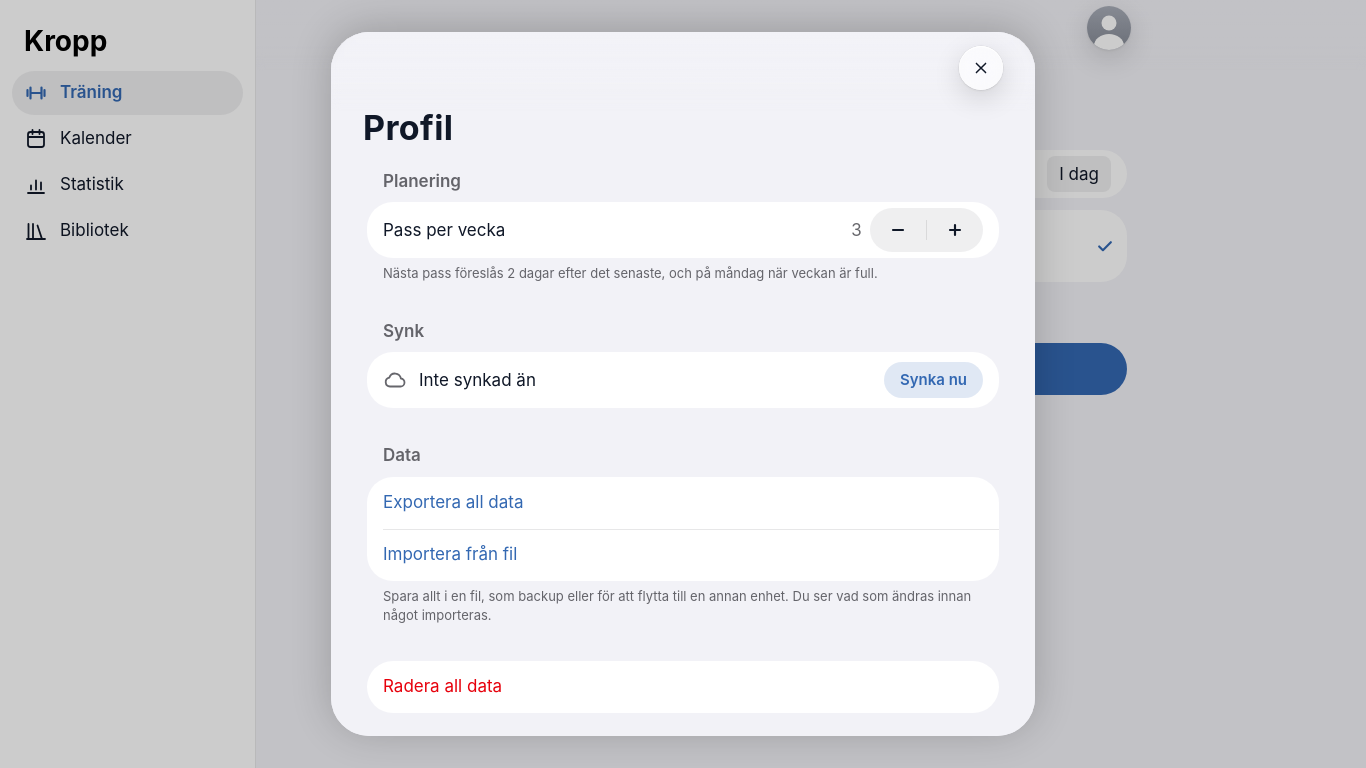
Test: export and import › downloads the file where there is no share sheet
Click the button with test id "export-data".
click(453, 502)  # box [367,477,999,529]
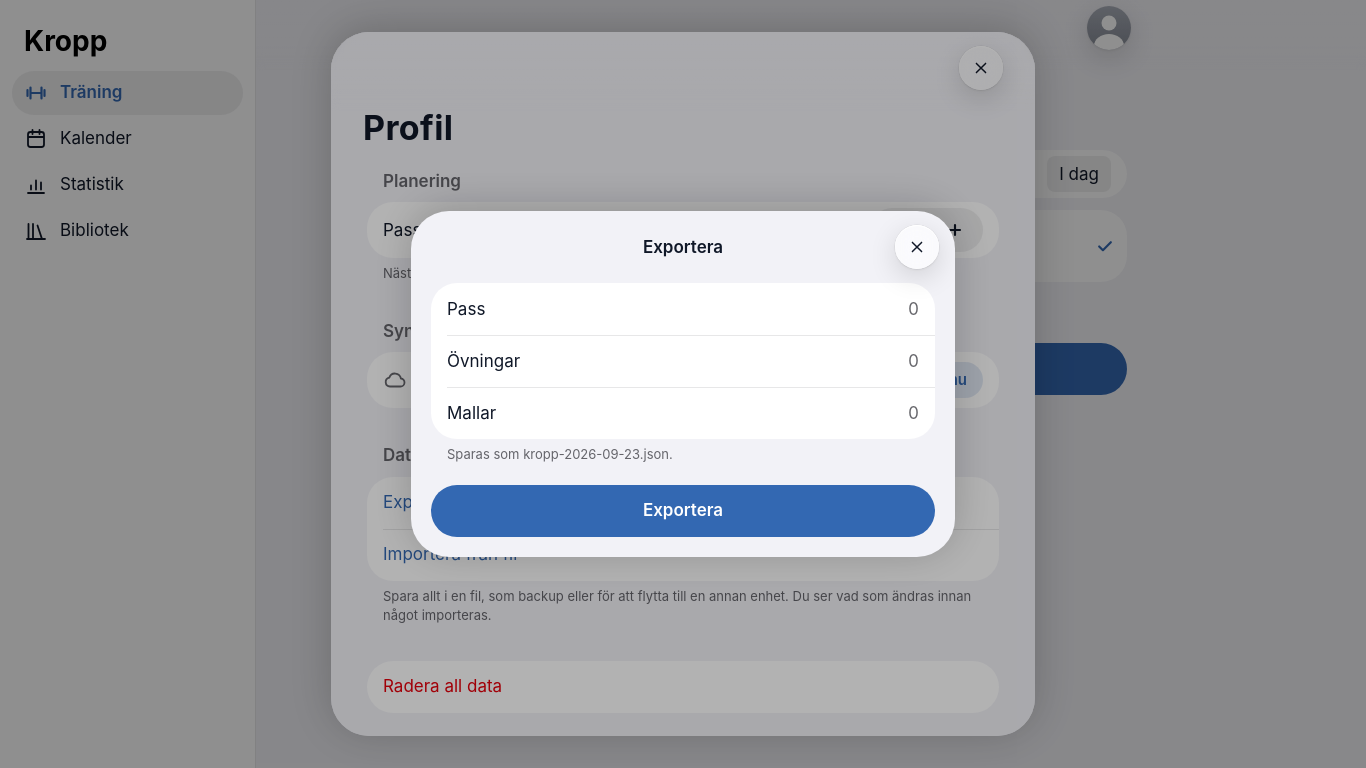
Click the button with test id "confirm-export".
click(683, 511)  # box [431,485,935,537]
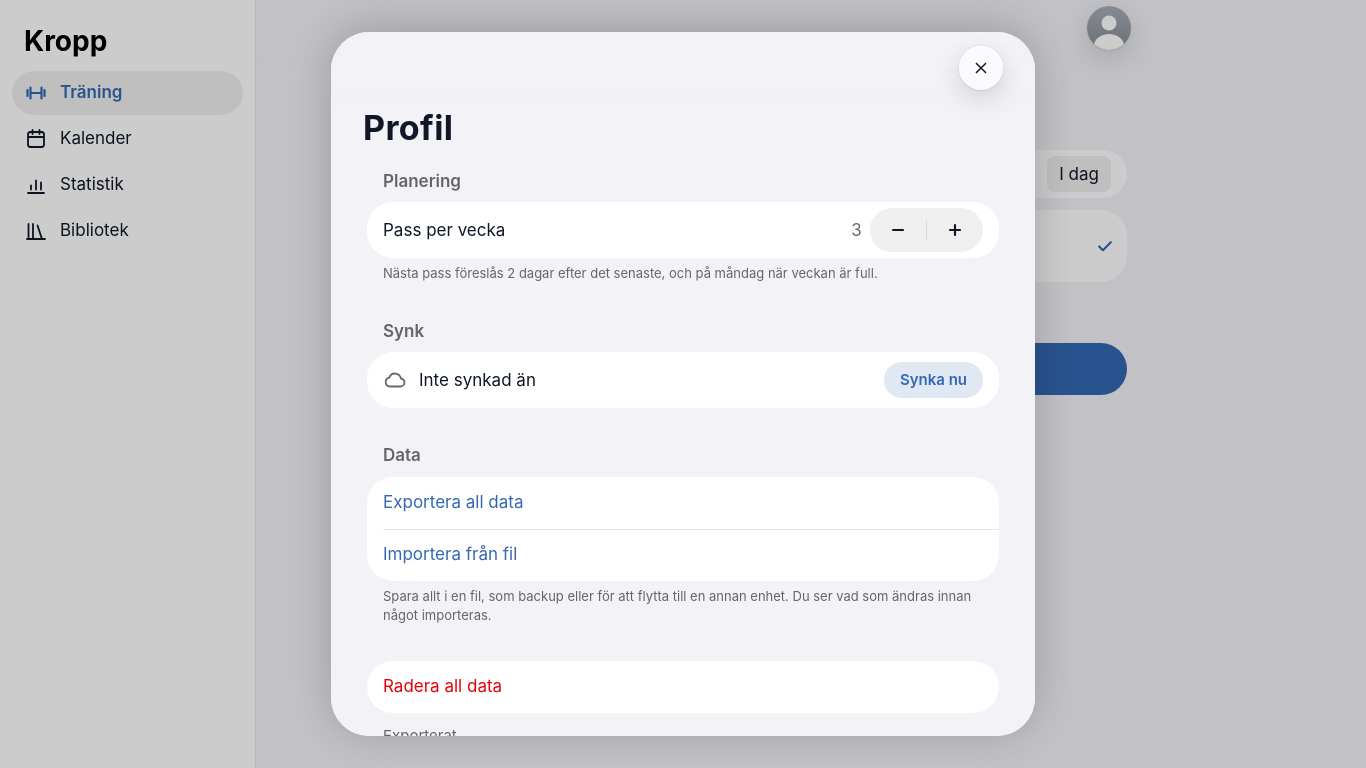
Expected: the dialog with test id "export-sheet" is gone
